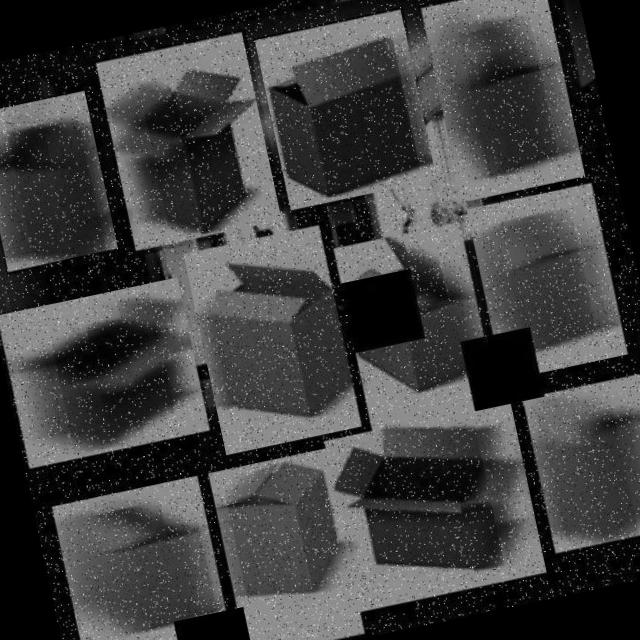box: (320, 398, 552, 616), (92, 28, 287, 256), (182, 220, 364, 460), (0, 274, 214, 472), (331, 218, 504, 443), (253, 6, 440, 214), (418, 0, 588, 207), (464, 180, 632, 384), (206, 446, 367, 640), (49, 473, 234, 640), (519, 370, 640, 557), (0, 88, 120, 274)
